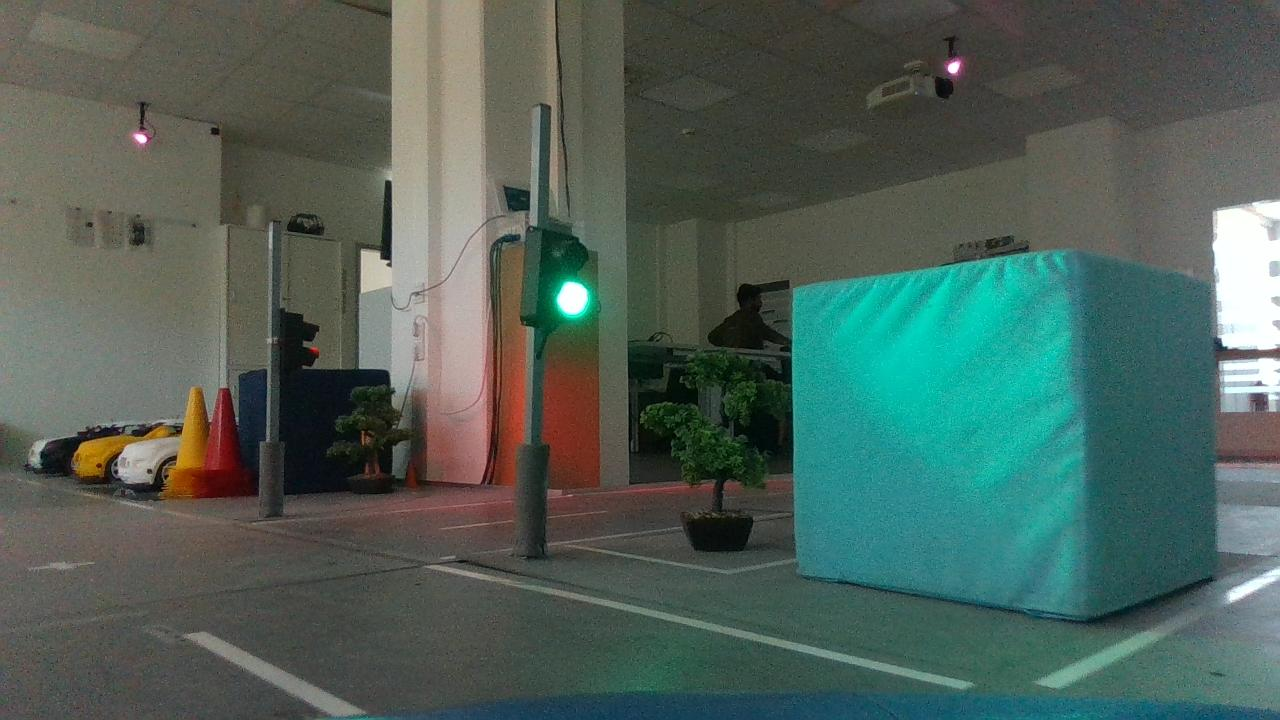traffic_light_green: (509, 212, 603, 342)
